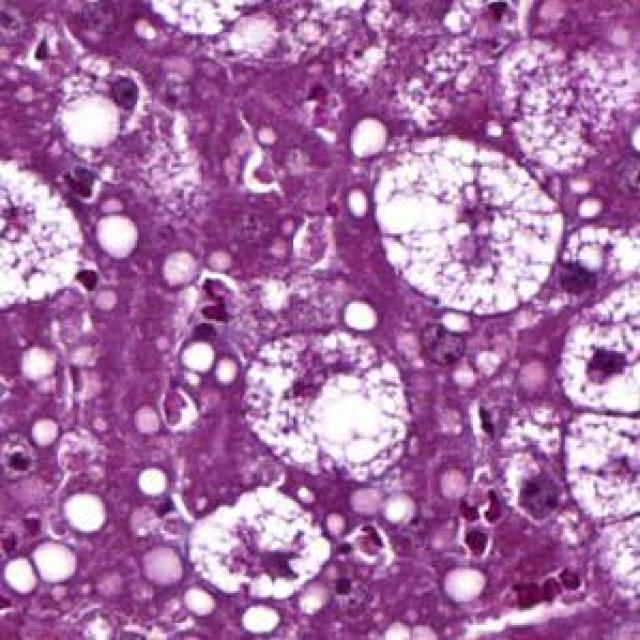ballooning: (372, 131, 572, 321), (244, 325, 420, 488), (558, 276, 636, 527), (182, 477, 336, 604), (8, 156, 90, 317)
